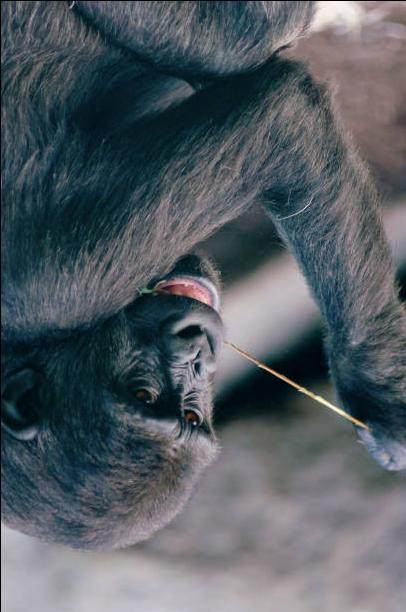gorille_Autres: (7, 0, 406, 548)
